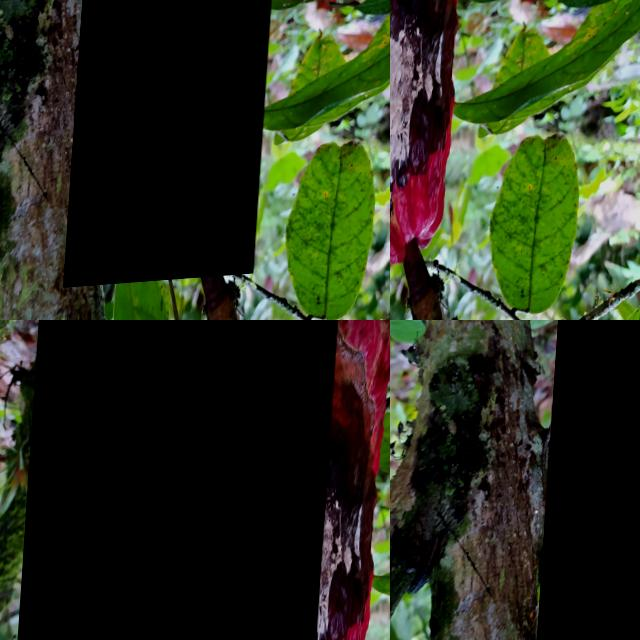Monilia: (542, 320, 640, 640)
Sana: (16, 320, 347, 640), (71, 0, 287, 291)
